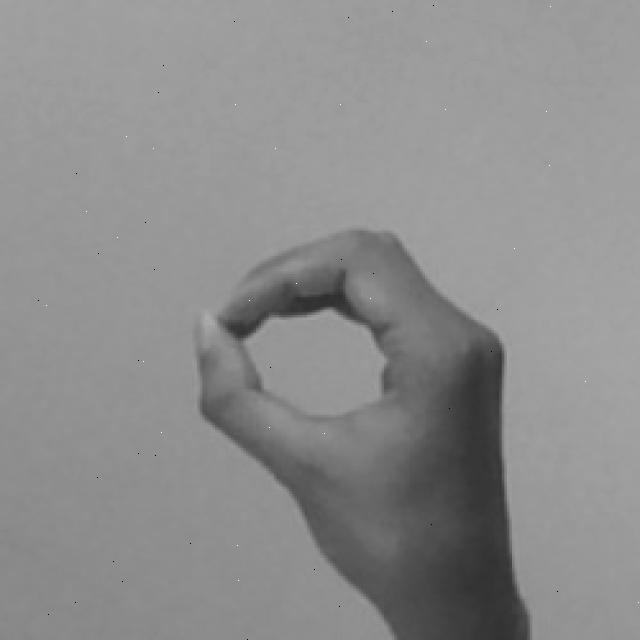O: (188, 219, 547, 640)
